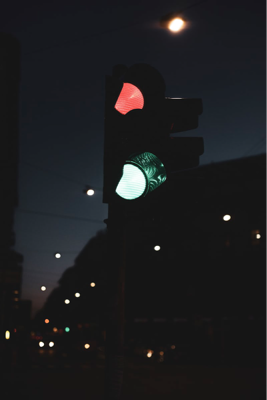trafficlight: (98, 62, 208, 232)
